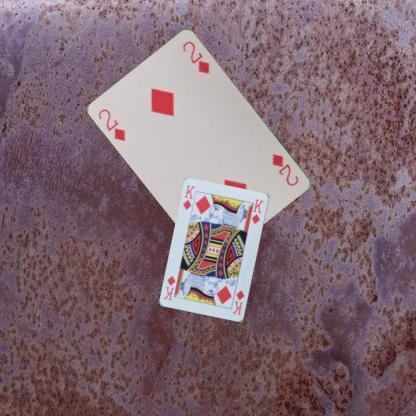2d: (96, 106, 127, 143), (270, 151, 300, 188)
Kd: (180, 182, 196, 212), (230, 288, 246, 316)
